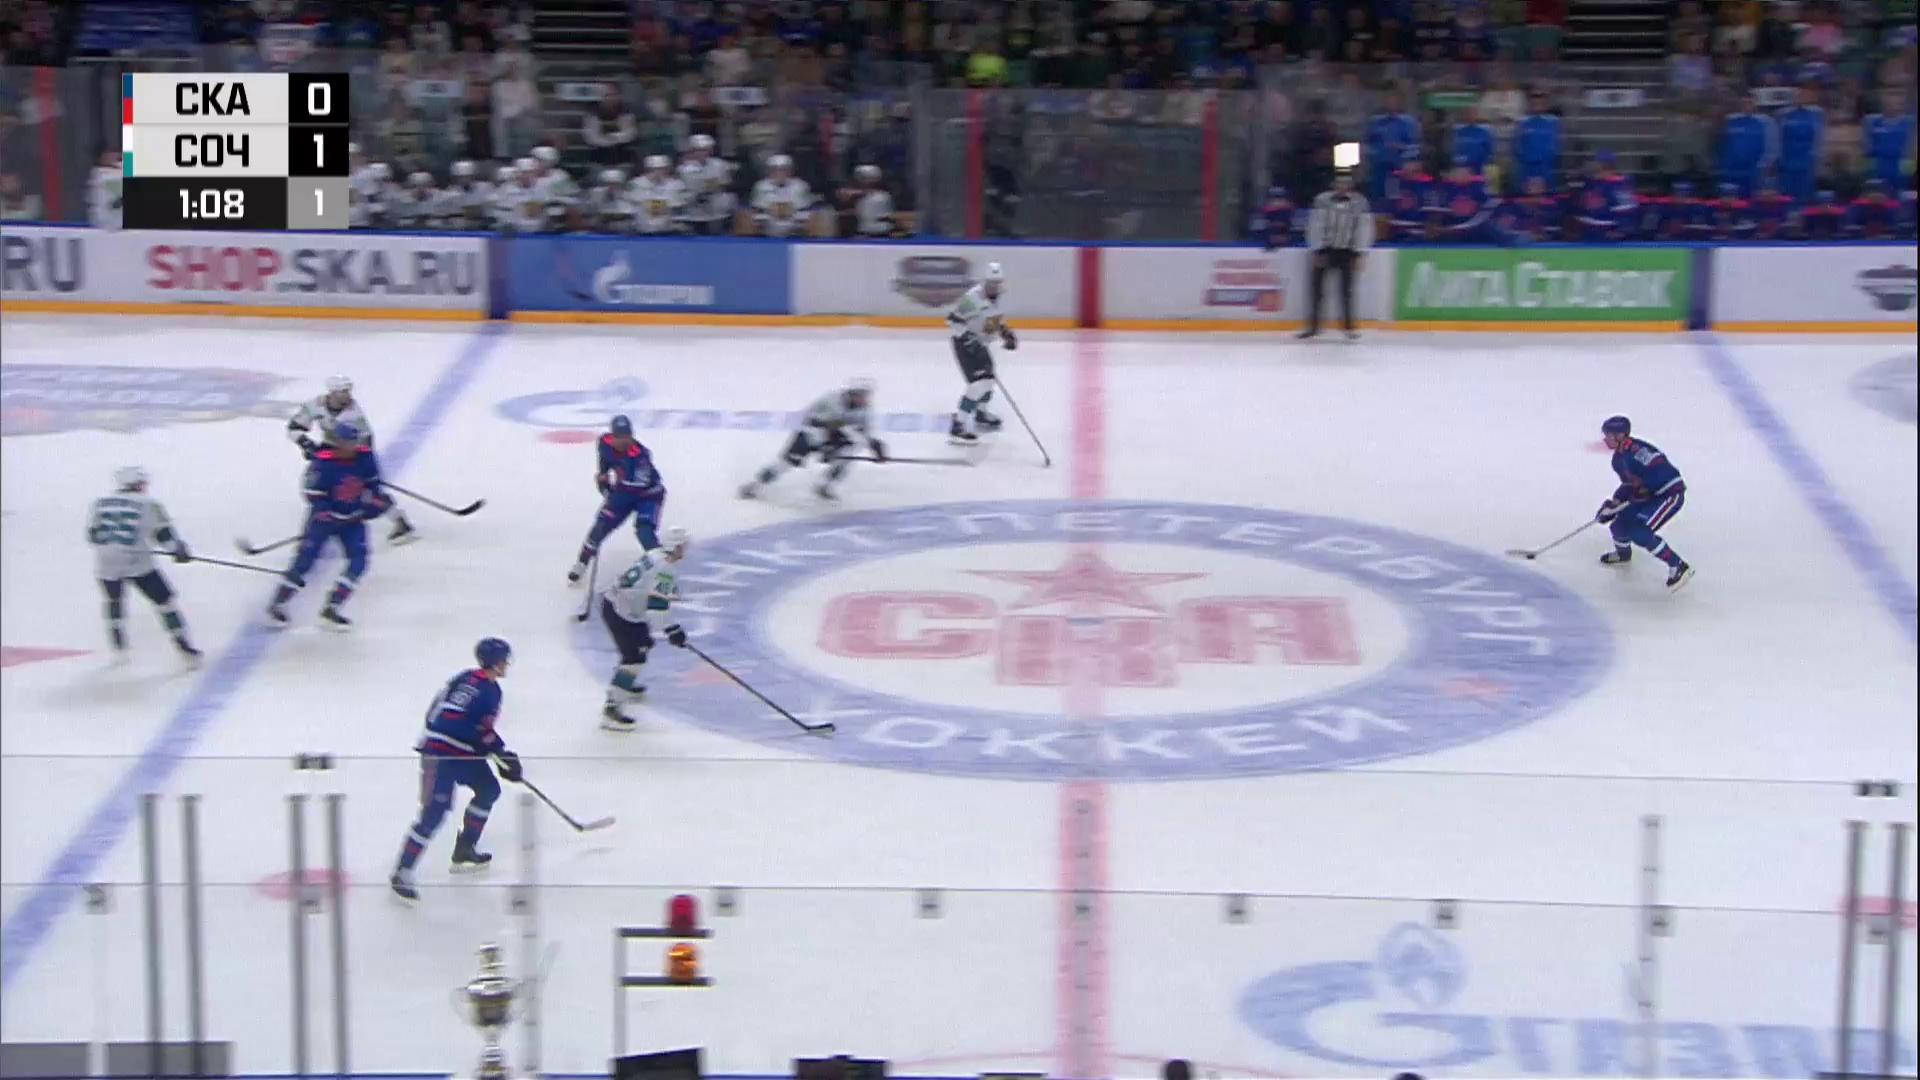ball: (1526, 554, 1536, 559)
